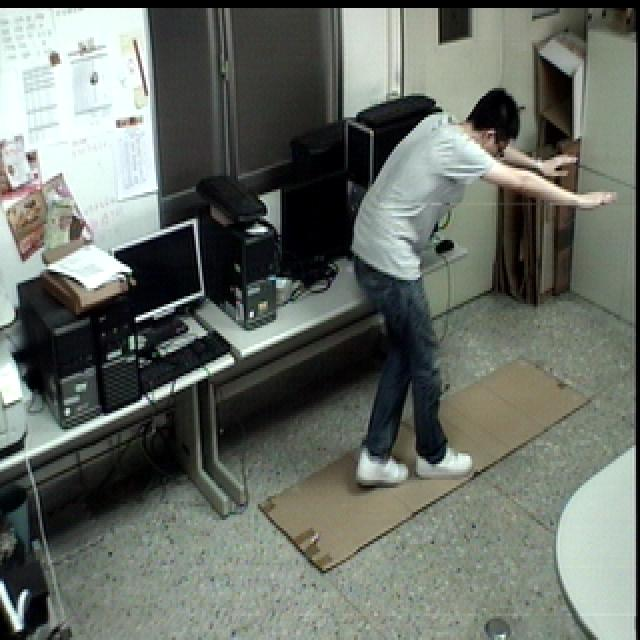bend: (342, 86, 624, 492)
